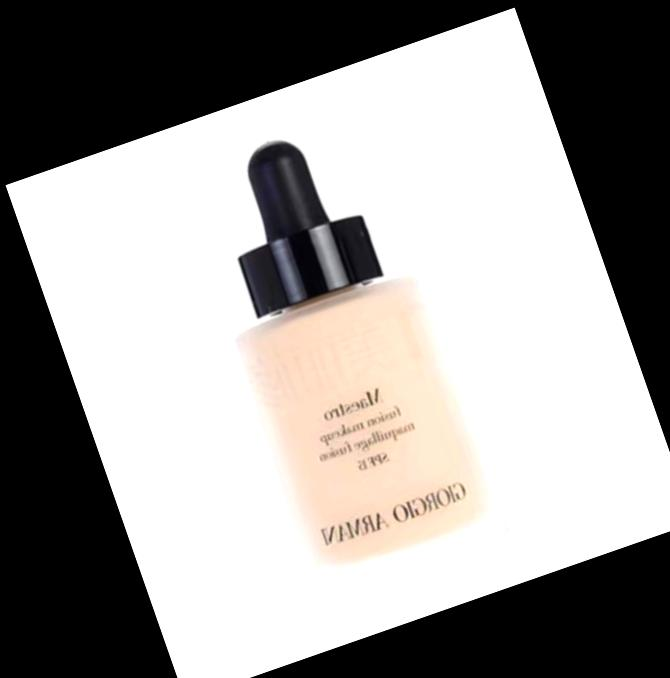cosmetic: (171, 106, 516, 602)
